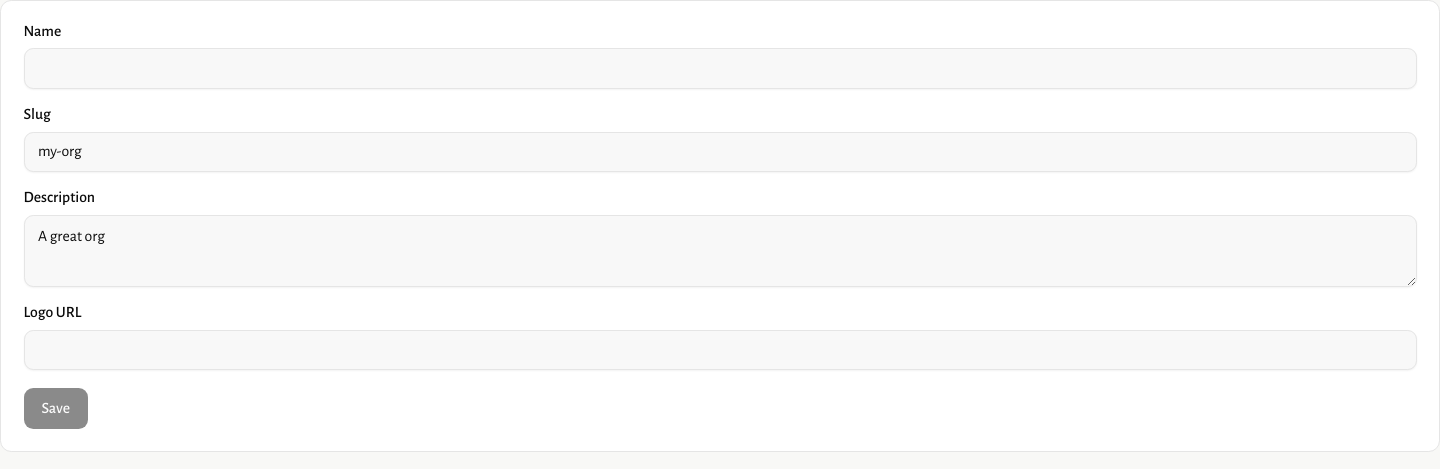
OrganizationProfileForm › should disable save button when name is empty
expect the button "Save" is disabled: met, box [24,388,88,428]
Type "New Name" into the field labelled "Name". click: (720, 69)
box: [24,48,1416,89]
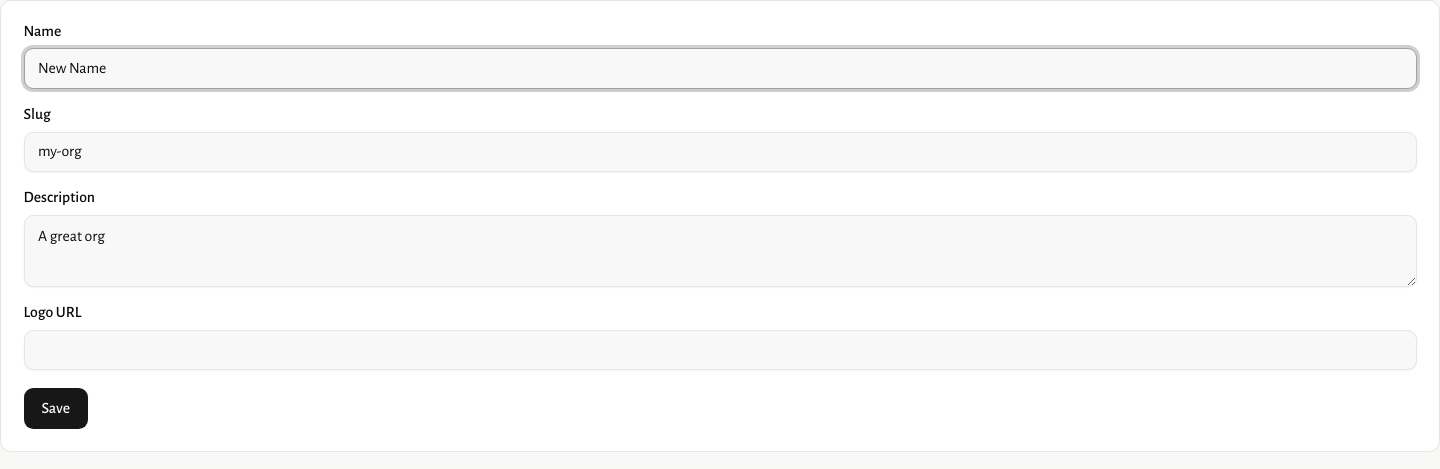
expect the button "Save" is enabled: met, box [24,388,88,428]
